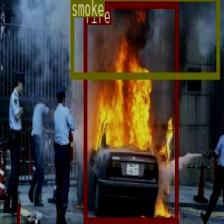fire: (83, 1, 178, 222)
smoke: (70, 0, 218, 77)
